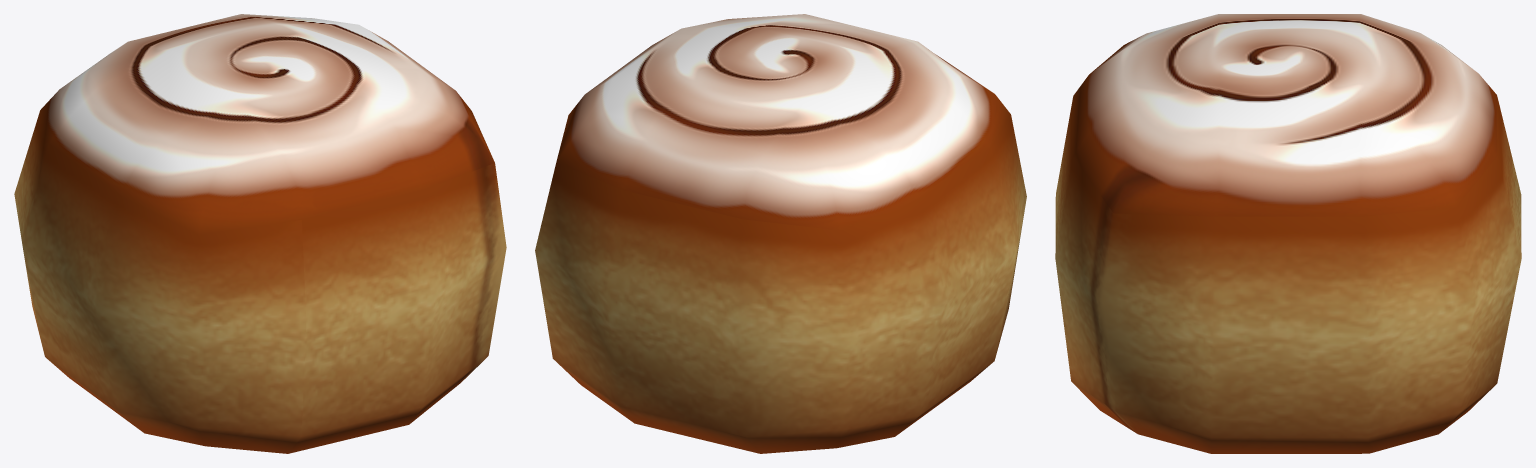
The model's file is 010-CinnamonBuns2.FBX.
3 views of the same model, side by side, from view 1: azimuth 30°, elevation 25°; view 2: azimuth 150°, elevation 25°; view 3: azimuth 270°, elevation 25° (orthographic). The views are drawn at different scales.
Parts seen in each view (by area): view 1: 010-CinnamonBuns2; view 2: 010-CinnamonBuns2; view 3: 010-CinnamonBuns2.
Boxes of the visible parts, x1=… form: 010-CinnamonBuns2: x1=14, y1=14, x2=506, y2=453; 010-CinnamonBuns2: x1=535, y1=14, x2=1026, y2=453; 010-CinnamonBuns2: x1=1055, y1=14, x2=1521, y2=453.
Bounding box in the file's own units: 13.27 × 10.57 × 13.01.
